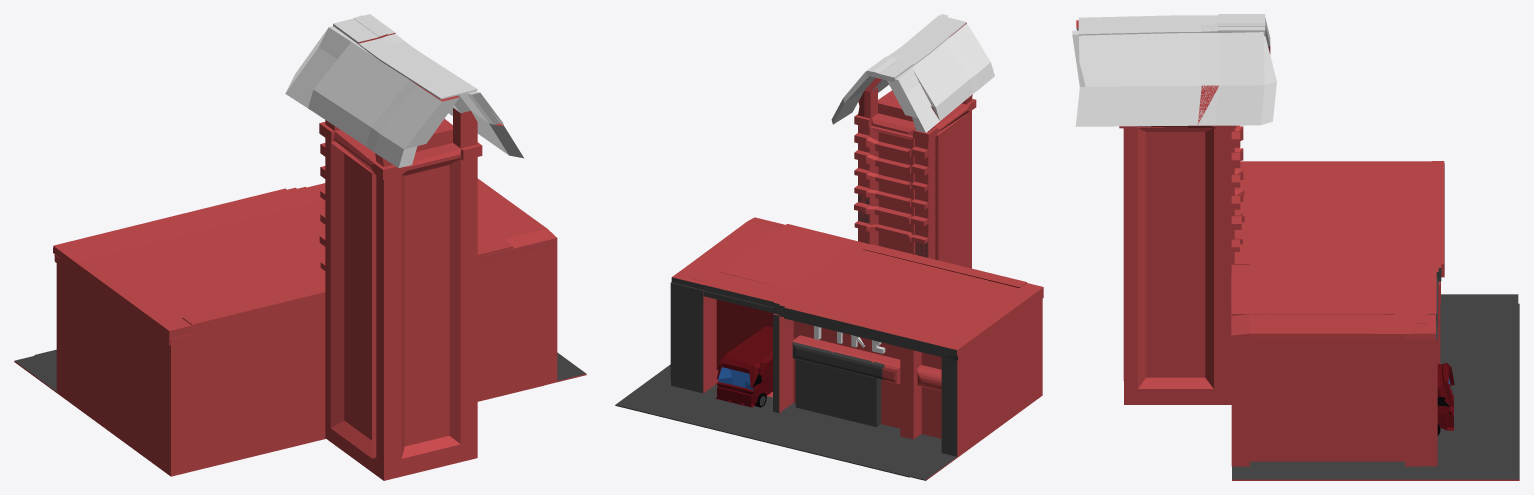
The model's file is Strazpozarna V3.fbx.
3 views of the same model, side by side, from view 1: azimuth 30°, elevation 25°; view 2: azimuth 150°, elevation 25°; view 3: azimuth 270°, elevation 25° (orthographic). The views are drawn at different scales.
Visible parts, largest first — view 1: Cube, Cube.005; view 2: Cube, Cube.005, Cube.006; view 3: Cube, Cube.005, Cube.006.
Boxes of the visible parts, x1=… form: Cube: x1=36, y1=14, x2=557, y2=480; Cube.005: x1=14, y1=143, x2=586, y2=462; Cube: x1=664, y1=14, x2=1043, y2=468; Cube.005: x1=615, y1=133, x2=1042, y2=480; Cube.006: x1=716, y1=326, x2=772, y2=407; Cube: x1=1072, y1=14, x2=1478, y2=466; Cube.005: x1=1123, y1=125, x2=1519, y2=480; Cube.006: x1=1437, y1=363, x2=1454, y2=430.
Bounding box in the file's own units: 4891 × 4444 × 4967.
